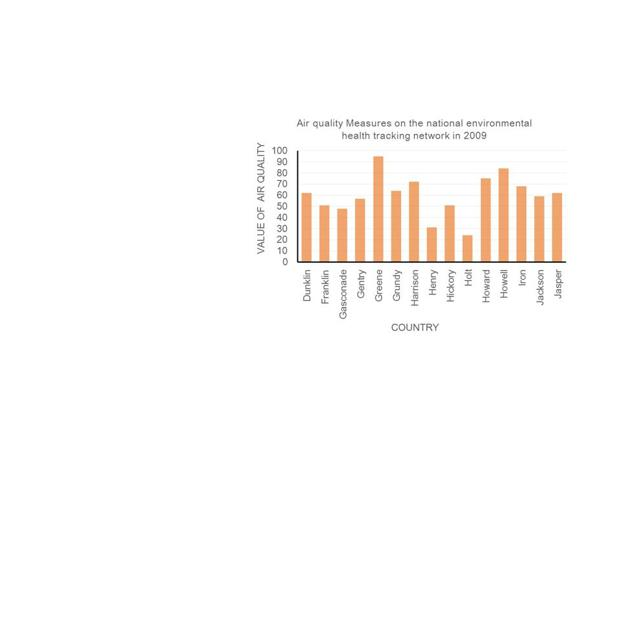Graph: (248, 110, 571, 338)
